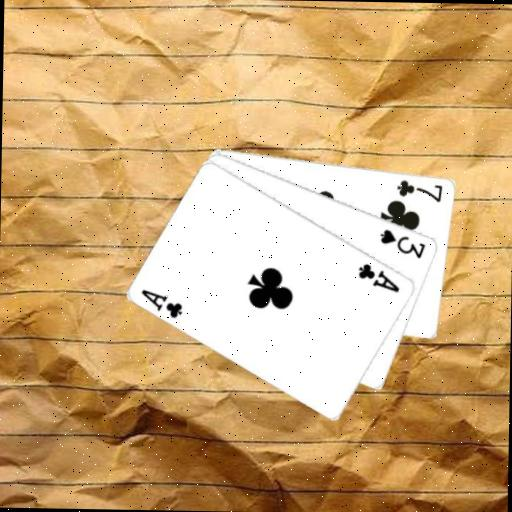3S: (377, 226, 428, 260)
7C: (394, 177, 445, 204)
AC: (355, 260, 402, 294), (138, 286, 185, 320)
